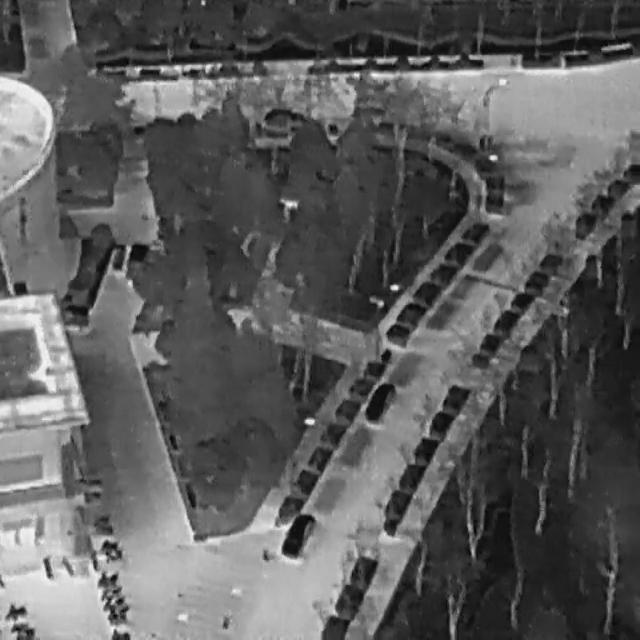Bicycle: (91, 565, 120, 591), (100, 588, 125, 612), (37, 551, 56, 581), (96, 579, 124, 599), (57, 551, 77, 579), (2, 598, 27, 620), (104, 605, 129, 625), (217, 608, 234, 632), (89, 512, 111, 526), (81, 488, 102, 502), (104, 548, 123, 562), (109, 626, 131, 638), (99, 535, 116, 550), (80, 477, 102, 488), (95, 522, 114, 534), (15, 626, 34, 638), (8, 619, 28, 630)
Car: (275, 499, 320, 565), (357, 371, 399, 431)
OtherVehicle: (122, 234, 151, 284)
